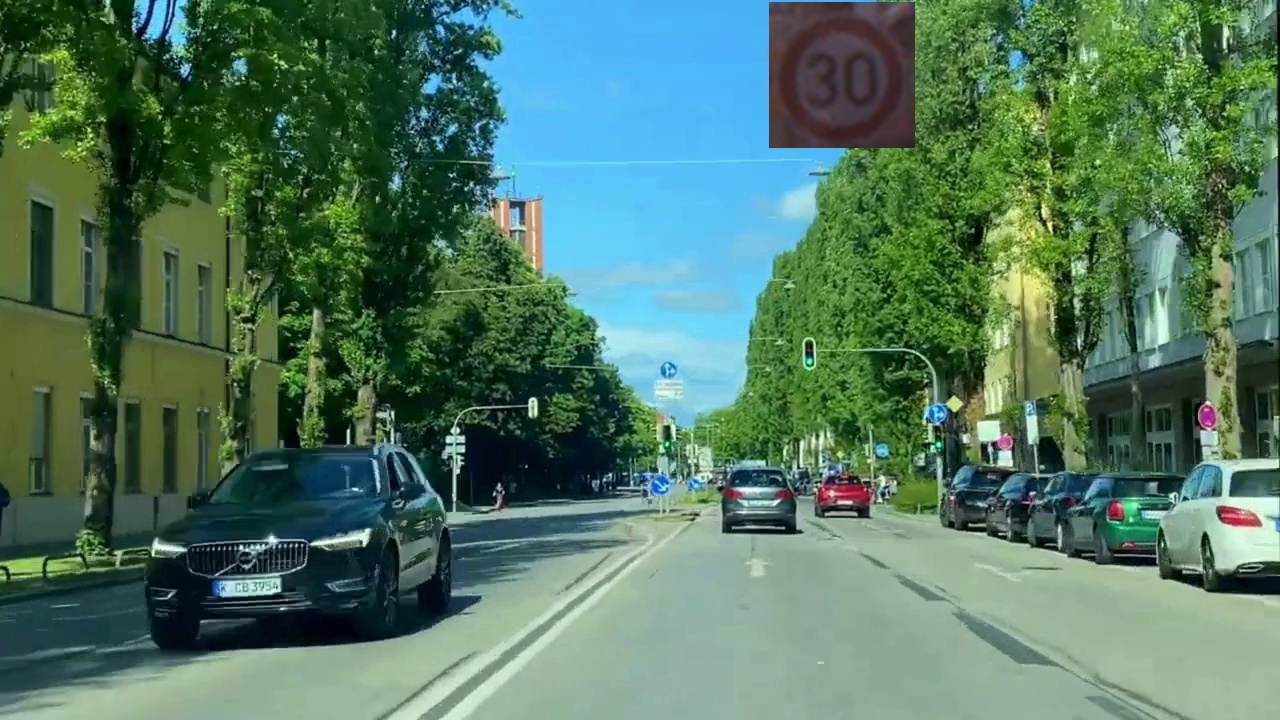Speed 30: (769, 2, 915, 148)
